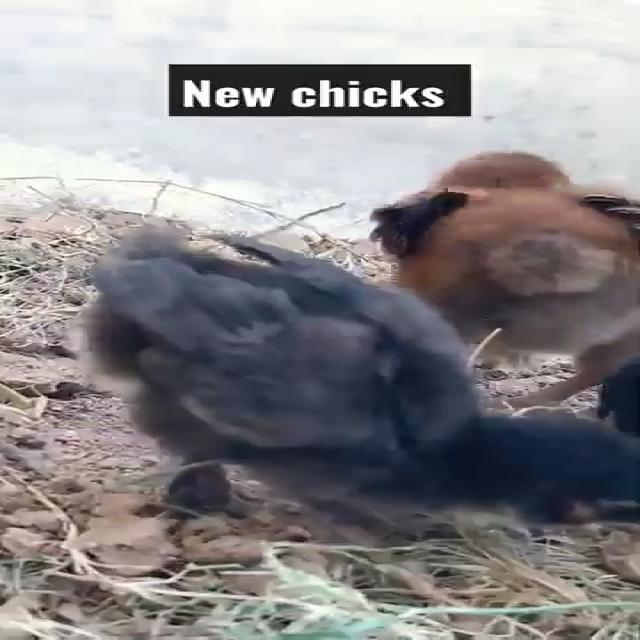stand bath: (46, 198, 640, 528)
